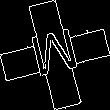M_S: (26, 25, 84, 85)
